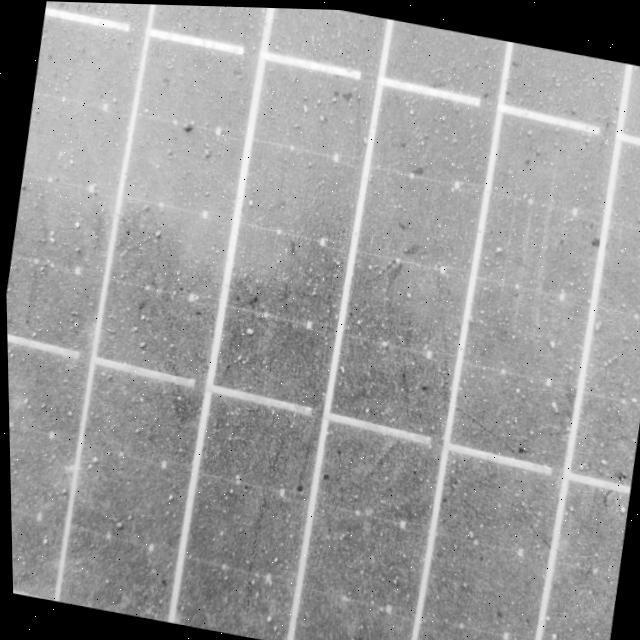Surface Contaminant: (5, 1, 640, 640)
